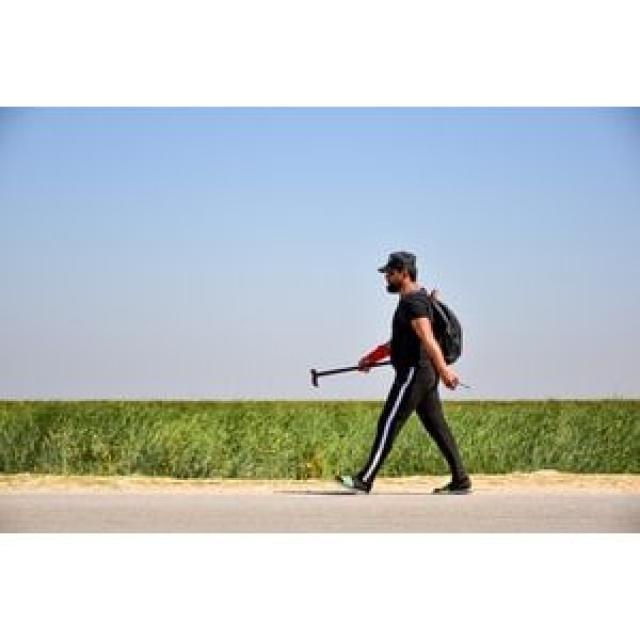nonfall: (352, 246, 477, 495)
